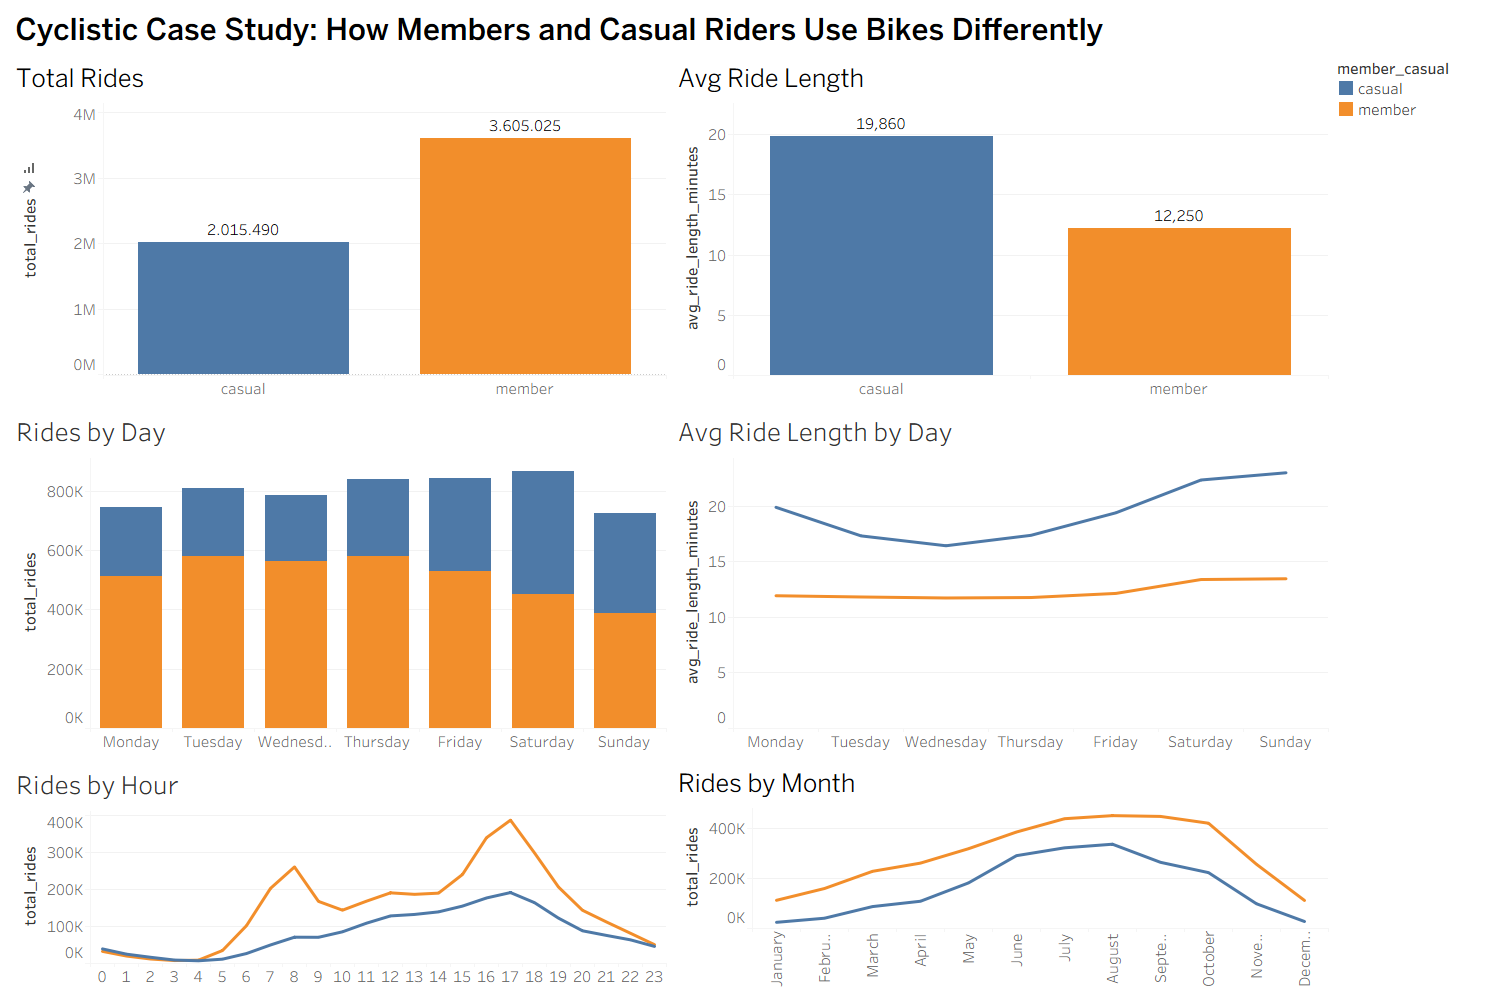

The dashboard page shown, as its layout file describes it:
{"tool":"tableau","page":{"name":"Dashboard 1","canvas":[1500,1000],"ordinal":0},"visuals":[{"type":"title","box":[8,8,1484,44]},{"type":"worksheet","title":"Total Rides by Rider Type","mark":"Automatic","rows":["total_rides"],"cols":["member_casual"],"box":[8,52,662,352.5]},{"type":"worksheet","title":"Filtered Average Ride Length by Rider Type","mark":"Automatic","rows":["avg_ride_length_minutes"],"cols":["member_casual"],"box":[670,52,662,352.5]},{"type":"legend","title":"Total Rides by Rider Type","param":"[federated.0uezhtw0ajqkw11g9wg140pvg7yb].[none:member_casual:nk]","box":[1332,52,160,72]},{"type":"worksheet","title":"Rides by Day","mark":"Automatic","rows":["total_rides"],"cols":["day_of_week"],"box":[8,404.5,662,352.5]},{"type":"worksheet","title":"Avg Ride Length by Day","mark":"Line","rows":["avg_ride_length_minutes"],"cols":["day_of_week"],"box":[670,404.5,662,352.5]},{"type":"worksheet","title":"Rides by Hour","mark":"Line","rows":["total_rides"],"cols":["hour"],"box":[8,757,662,235]},{"type":"worksheet","title":"Ride Count by Month and Rider Type","mark":"Line","rows":["total_rides"],"cols":["month_name"],"box":[670,757,662,235]}]}

Visuals, with their boxes in screenshot pixels (x1, y1, x2, y2), scaled from the page's 1500x1000 canvas onto the 1500x1000 screenshot:
title: [8, 8, 1492, 52]
"Total Rides by Rider Type" worksheet: [8, 52, 670, 404]
"Filtered Average Ride Length by Rider Type" worksheet: [670, 52, 1332, 404]
"Total Rides by Rider Type" legend: [1332, 52, 1492, 124]
"Rides by Day" worksheet: [8, 404, 670, 757]
"Avg Ride Length by Day" worksheet (Line marks): [670, 404, 1332, 757]
"Rides by Hour" worksheet (Line marks): [8, 757, 670, 992]
"Ride Count by Month and Rider Type" worksheet (Line marks): [670, 757, 1332, 992]
